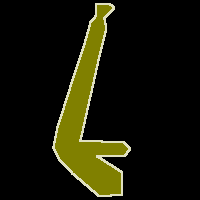tie: (53, 4, 130, 196)
